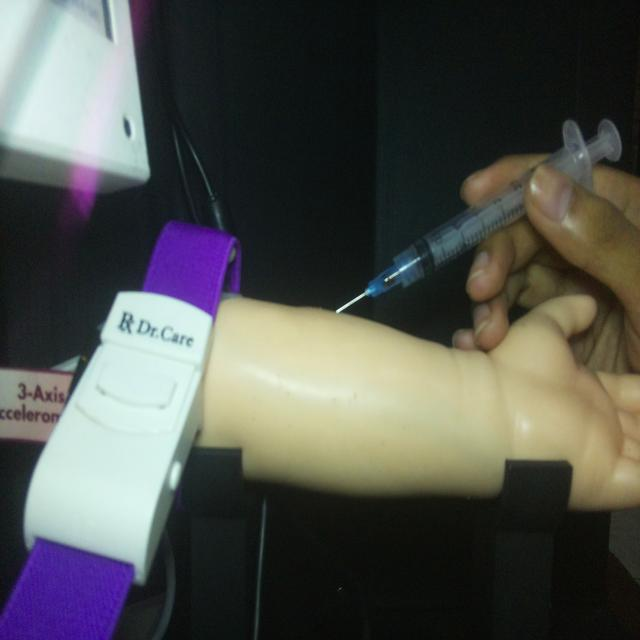22 degrees: (333, 114, 623, 316)
